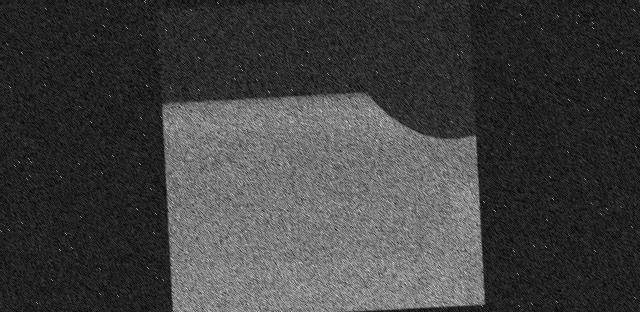welding_line: (437, 122, 472, 306)
